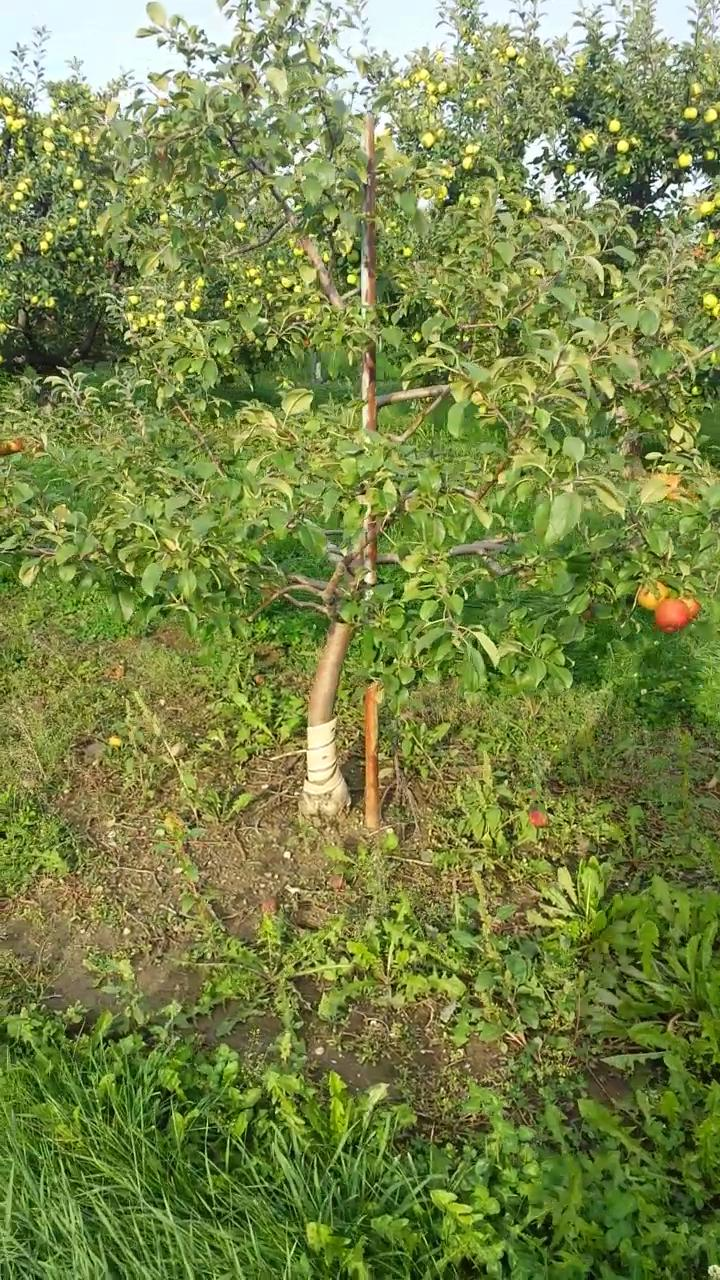Apple: (654, 596, 689, 633), (637, 578, 666, 608), (680, 596, 701, 624), (0, 439, 25, 454)
